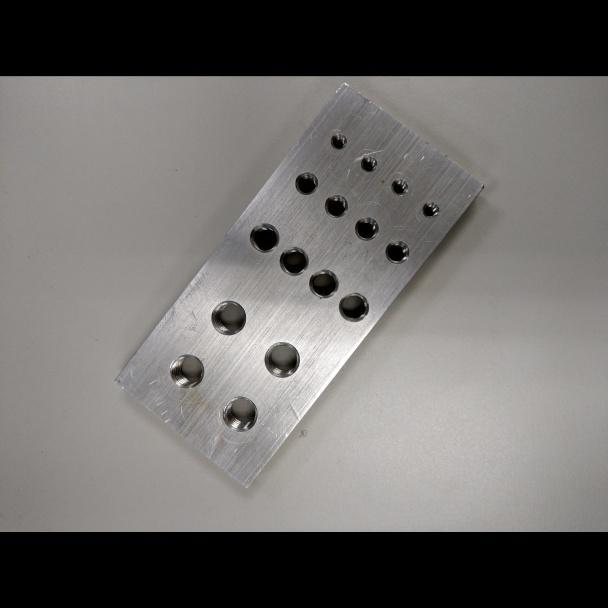hole: (209, 298, 247, 337), (262, 339, 300, 378), (220, 394, 257, 432), (168, 352, 205, 389), (338, 290, 370, 323), (307, 267, 339, 299), (248, 221, 279, 253), (278, 245, 309, 276), (384, 239, 410, 264), (294, 170, 318, 195), (354, 216, 379, 240), (324, 193, 348, 217), (421, 200, 440, 219), (390, 177, 408, 195), (359, 155, 378, 172), (330, 132, 347, 150)
